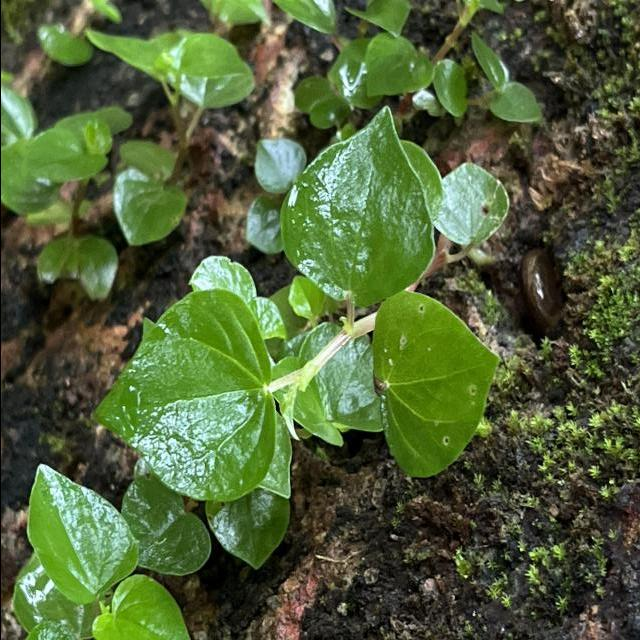Peperomia pellucida: (90, 288, 278, 504), (278, 104, 436, 308), (370, 290, 500, 480)
